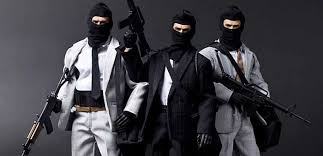gun: (14, 64, 84, 156), (215, 68, 318, 129), (114, 1, 157, 60)
